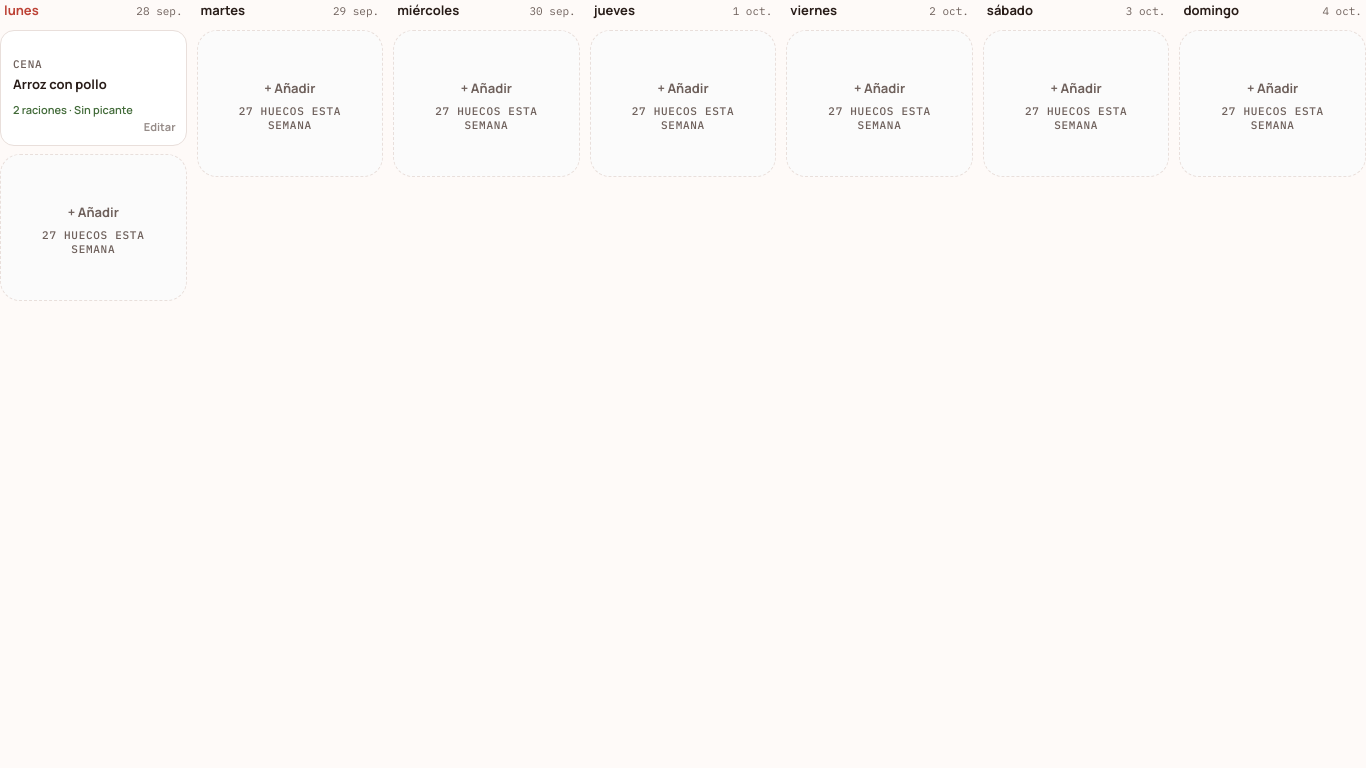
Scenario: weekly plan board › opens the add-meal dialog for an empty slot
Click the button with aria-label "añadir comida el" at (93, 227), box [0, 154, 187, 301]
(page scrolled)
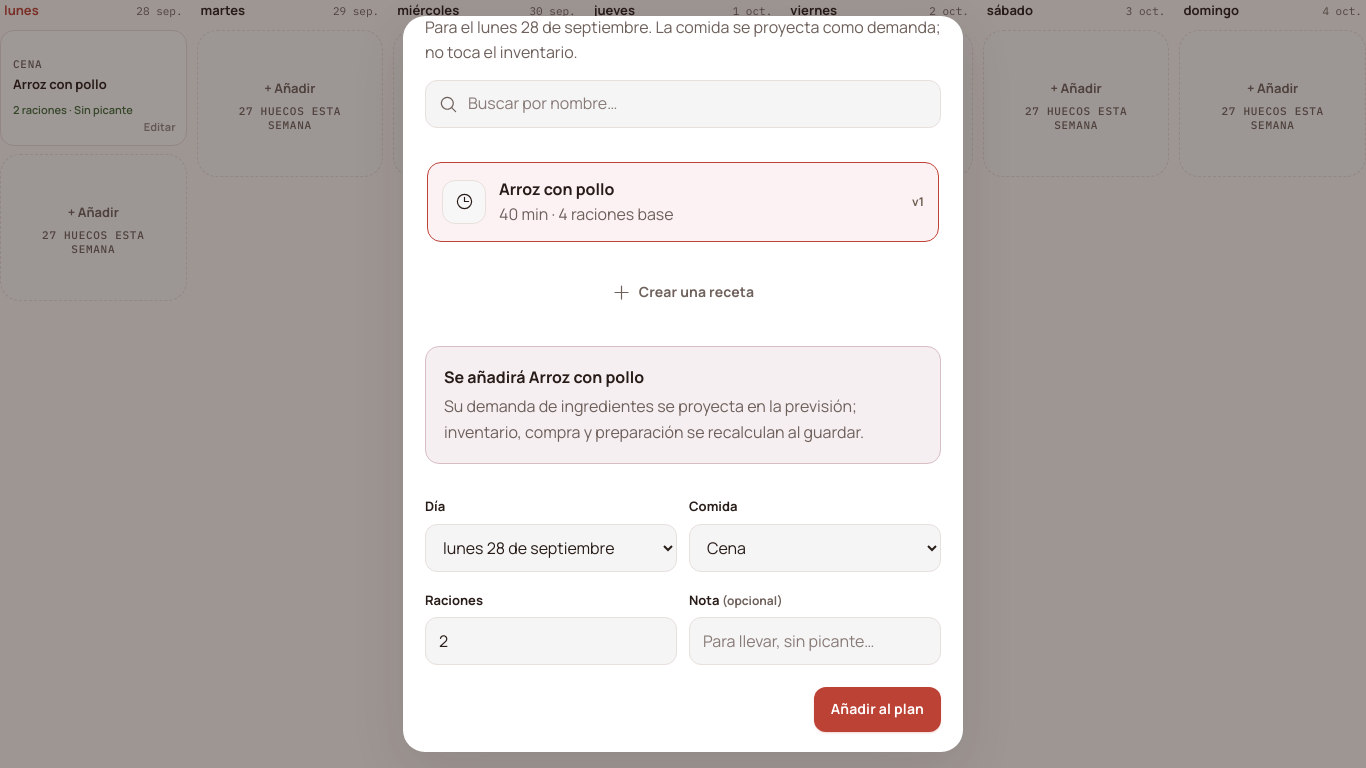
Expected: the dialog is shown, [403, 16, 963, 752]
Expected: the list named "Recetas disponibles" is shown, [425, 160, 941, 244]
Expected: the option "Arroz con pollo 40 min · 4 raciones base v1" is shown, [427, 162, 939, 242]
